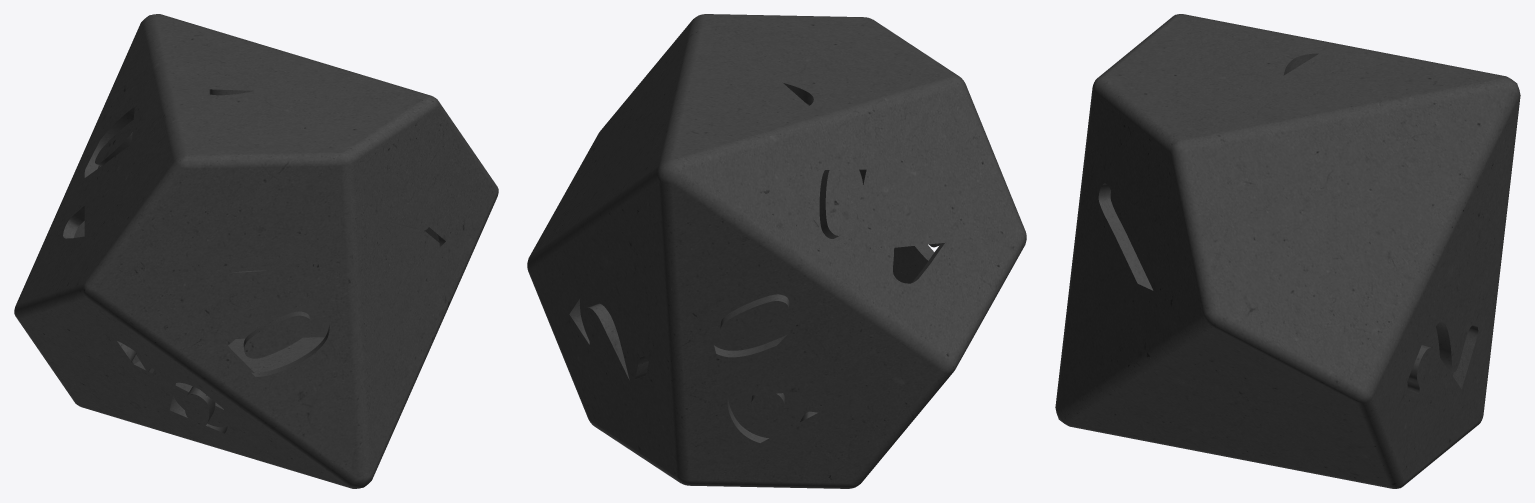
Rendered from d10 tens outer.fbx.
The picture shows the model from 3 angles, left to right: view 1: azimuth 30°, elevation 25°; view 2: azimuth 150°, elevation 25°; view 3: azimuth 270°, elevation 25°; orthographic projection. The views are drawn at different scales.
Visible parts, largest first — view 1: d10 tens outer; view 2: d10 tens outer; view 3: d10 tens outer.
Part boxes in pixels (x1,y1,x2,y2): d10 tens outer: (14, 14, 498, 488); d10 tens outer: (527, 14, 1026, 488); d10 tens outer: (1055, 14, 1520, 488).
Bounding box in the file's own units: 96.17 × 72.37 × 87.65.
